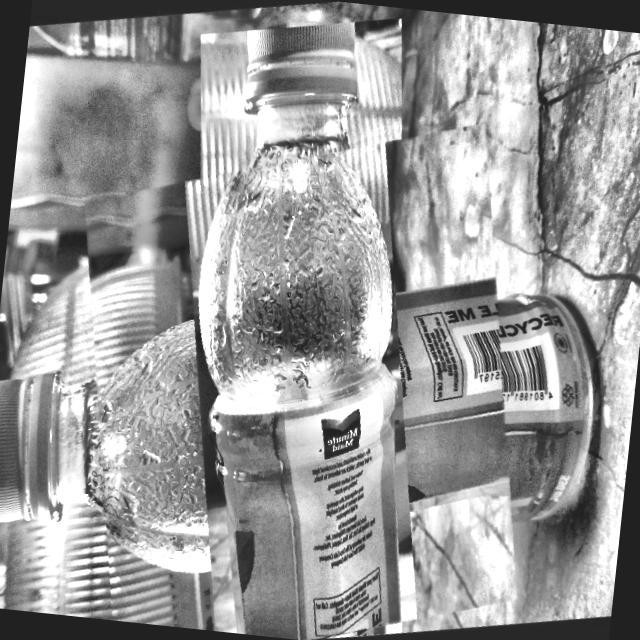Plastic-Bottle: (44, 87, 561, 640)
